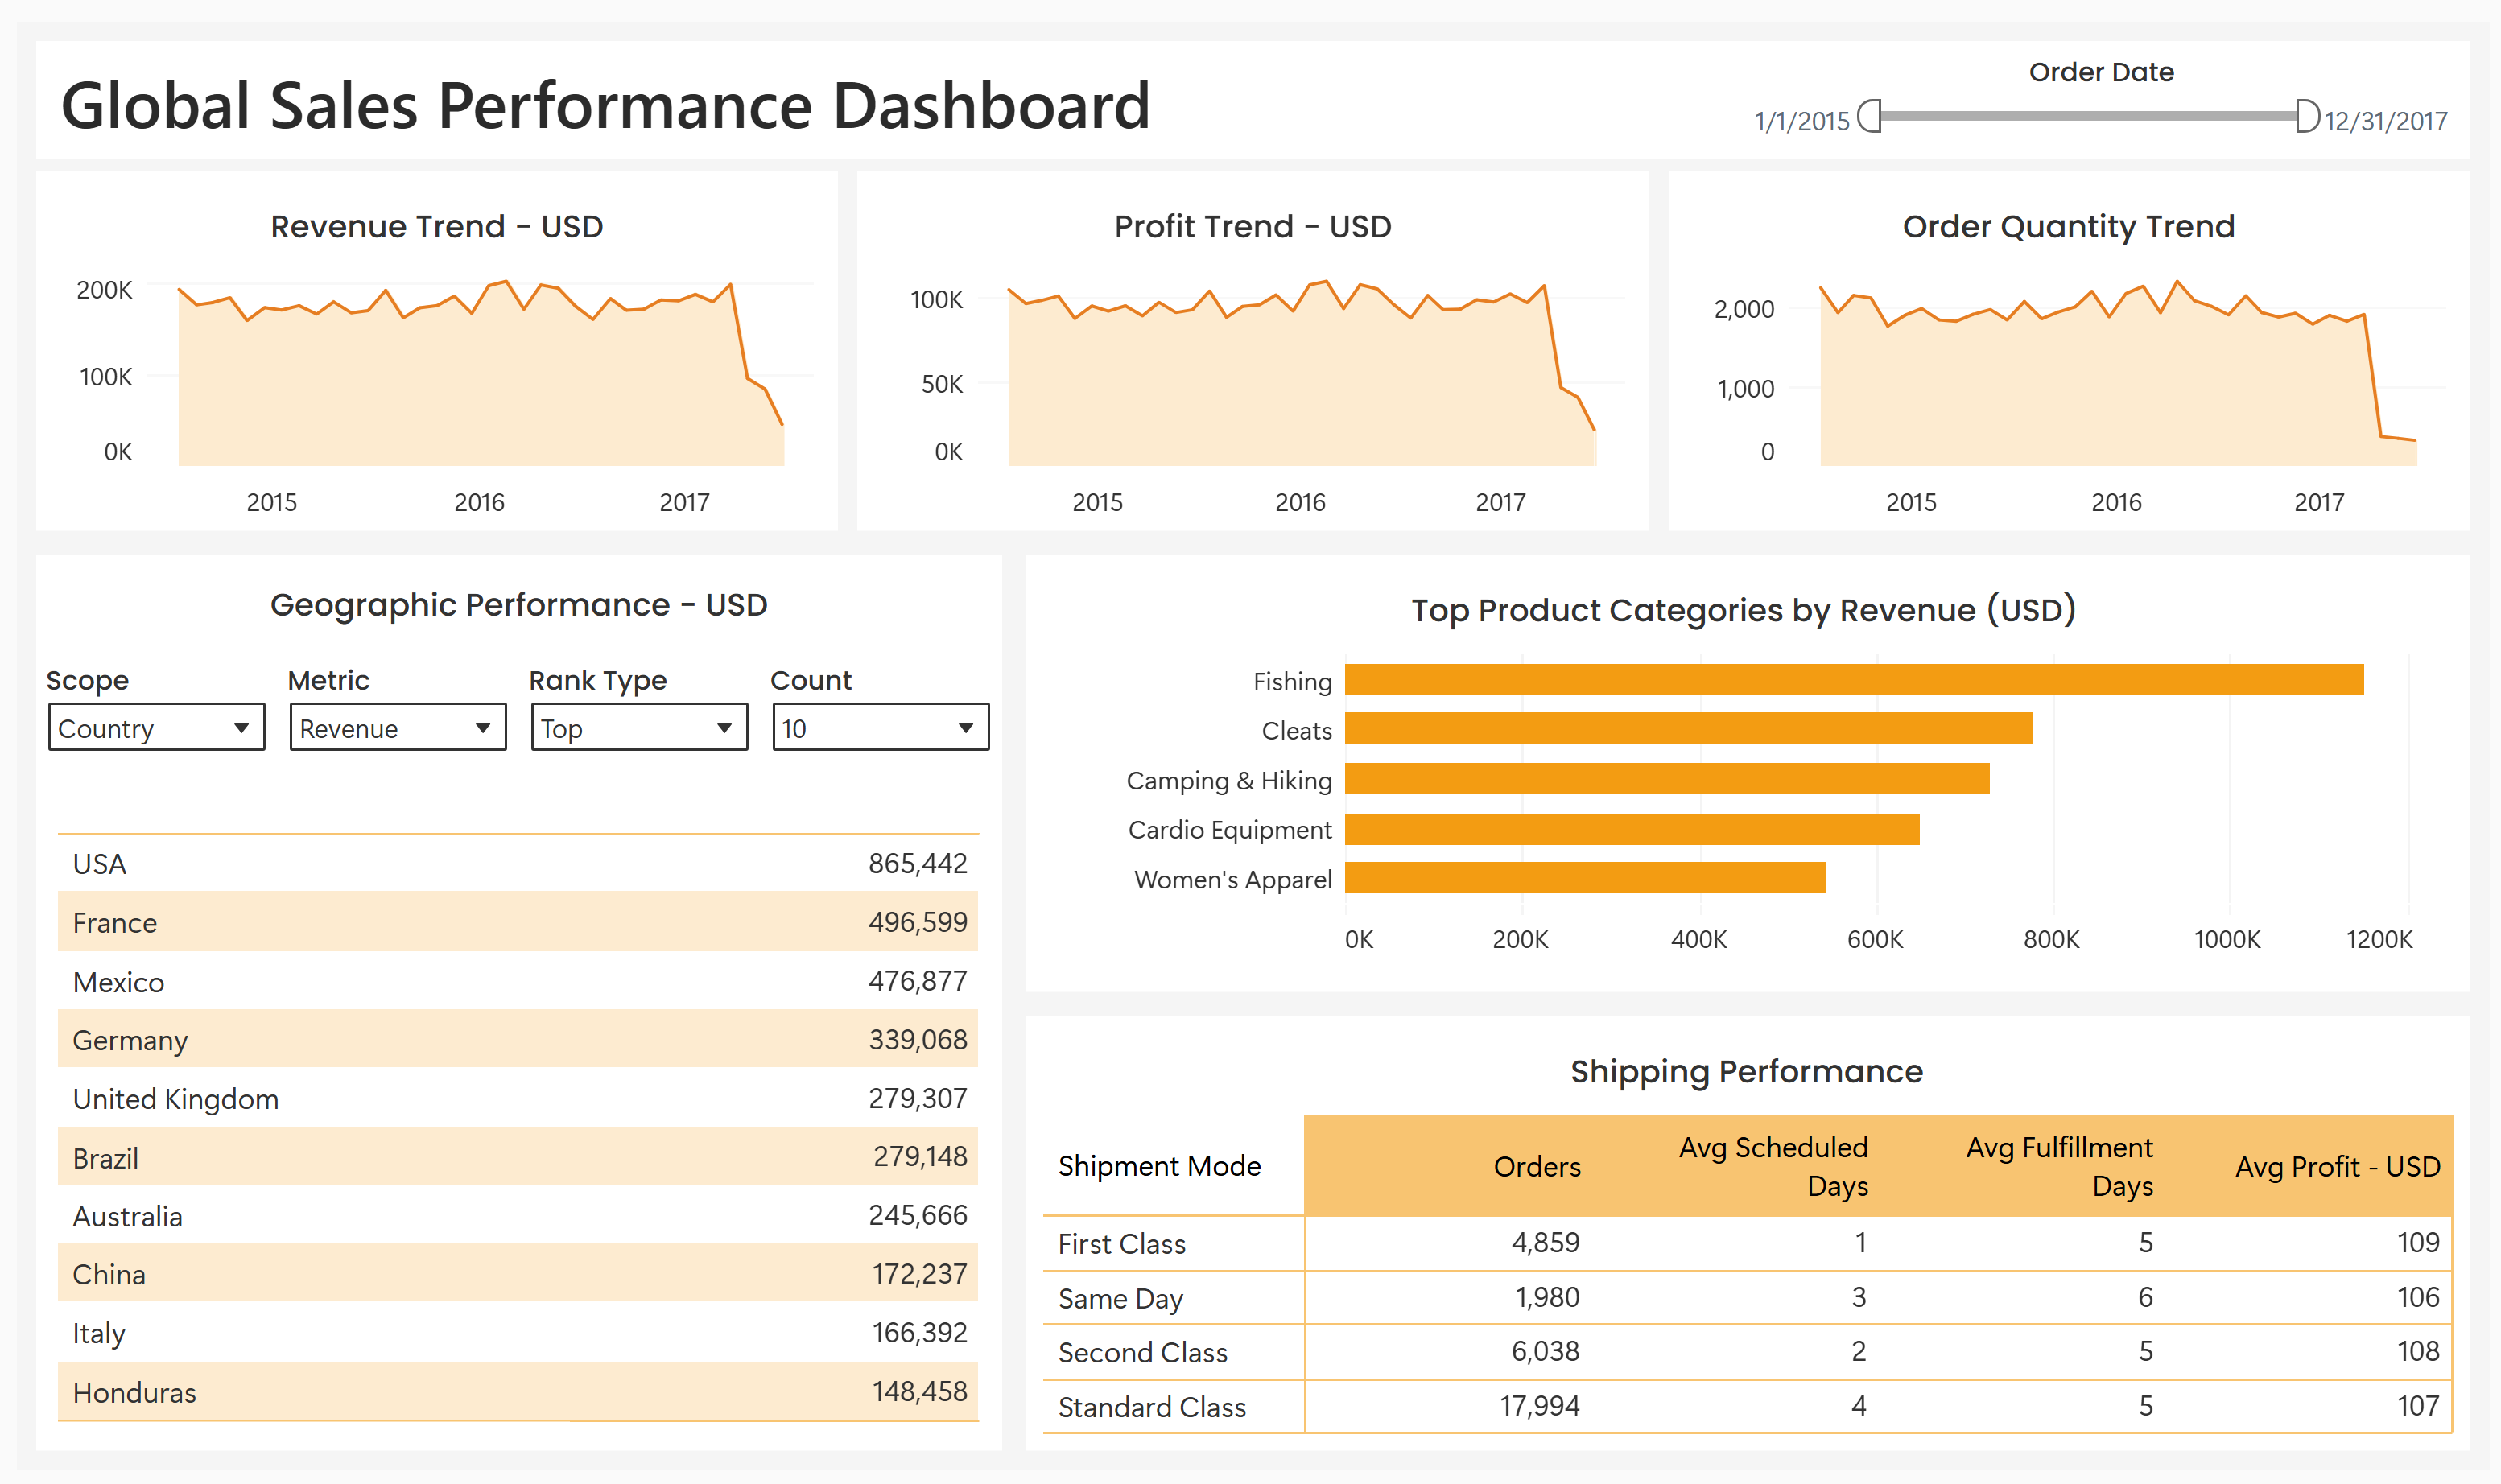

What the dashboard file says about the page in this screenshot:
{"tool":"tableau","page":{"name":"Dashboard","canvas":[1024,600],"ordinal":0},"visuals":[{"type":"text","box":[8,8,703,49]},{"type":"filter","title":"Revenue Trend","param":"[federated.0u57gxa1a9tolq18p2xaa0m95n2u].[none:order_date:qk]","box":[711,8,305,49]},{"type":"worksheet","title":"Revenue Trend","mark":"Line","rows":["gross_sales","gross_sales"],"cols":["order_date"],"box":[8,62,336,149]},{"type":"worksheet","title":"Profit Trend","mark":"Line","rows":["profit","profit"],"cols":["order_date"],"box":[344,62,336,149]},{"type":"worksheet","title":"Order QuantityTrend","mark":"Line","rows":["order_quantity","order_quantity"],"cols":["order_date"],"box":[680,62,336,149]},{"type":"worksheet","title":"Top Products","mark":"Bar","rows":["product_category"],"cols":["gross_sales"],"box":[418,221,598,186]},{"type":"text","box":[13,226,390,30]},{"type":"parameter","param":"[Parameters].[Parameter 1]","box":[8,261,100,51]},{"type":"parameter","param":"[Parameters].[Parameter 2]","box":[108,261,100,51]},{"type":"parameter","param":"[Parameters].[Parameter 3]","box":[208,261,100,51]},{"type":"parameter","param":"[Parameters].[Parameter 4]","box":[308,261,100,51]},{"type":"worksheet","title":"Geographic Profit Distribution","mark":"Automatic","rows":["Calculation_0292515203321857"],"box":[13,317,390,264.1]},{"type":"worksheet","title":"Shipping Performance","mark":"Automatic","rows":["shipment_mode"],"box":[418,407,598,185]}]}

Visuals, with their boxes in screenshot pixels (x1, y1, x2, y2), scaled from the page's 1024x600 canvas onto the 2501x1484 screenshot:
text: [19, 20, 1736, 141]
"Revenue Trend" filter: [1736, 20, 2482, 141]
"Revenue Trend" worksheet (Line marks): [19, 154, 840, 521]
"Profit Trend" worksheet (Line marks): [840, 154, 1661, 521]
"Order QuantityTrend" worksheet (Line marks): [1661, 154, 2482, 521]
"Top Products" worksheet (Bar marks): [1021, 546, 2482, 1007]
text: [31, 559, 984, 633]
parameter: [19, 645, 264, 772]
parameter: [264, 645, 508, 772]
parameter: [508, 645, 753, 772]
parameter: [753, 645, 997, 772]
"Geographic Profit Distribution" worksheet: [31, 784, 984, 1437]
"Shipping Performance" worksheet: [1021, 1007, 2482, 1464]
